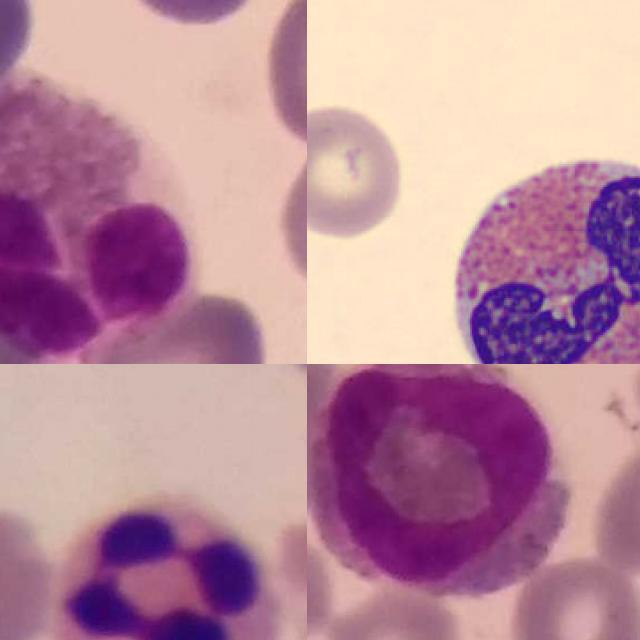Eosinophil: (311, 364, 570, 599), (0, 84, 197, 364), (434, 130, 640, 364)
Neutrophil: (54, 499, 284, 640)
RBC: (307, 98, 411, 241)
